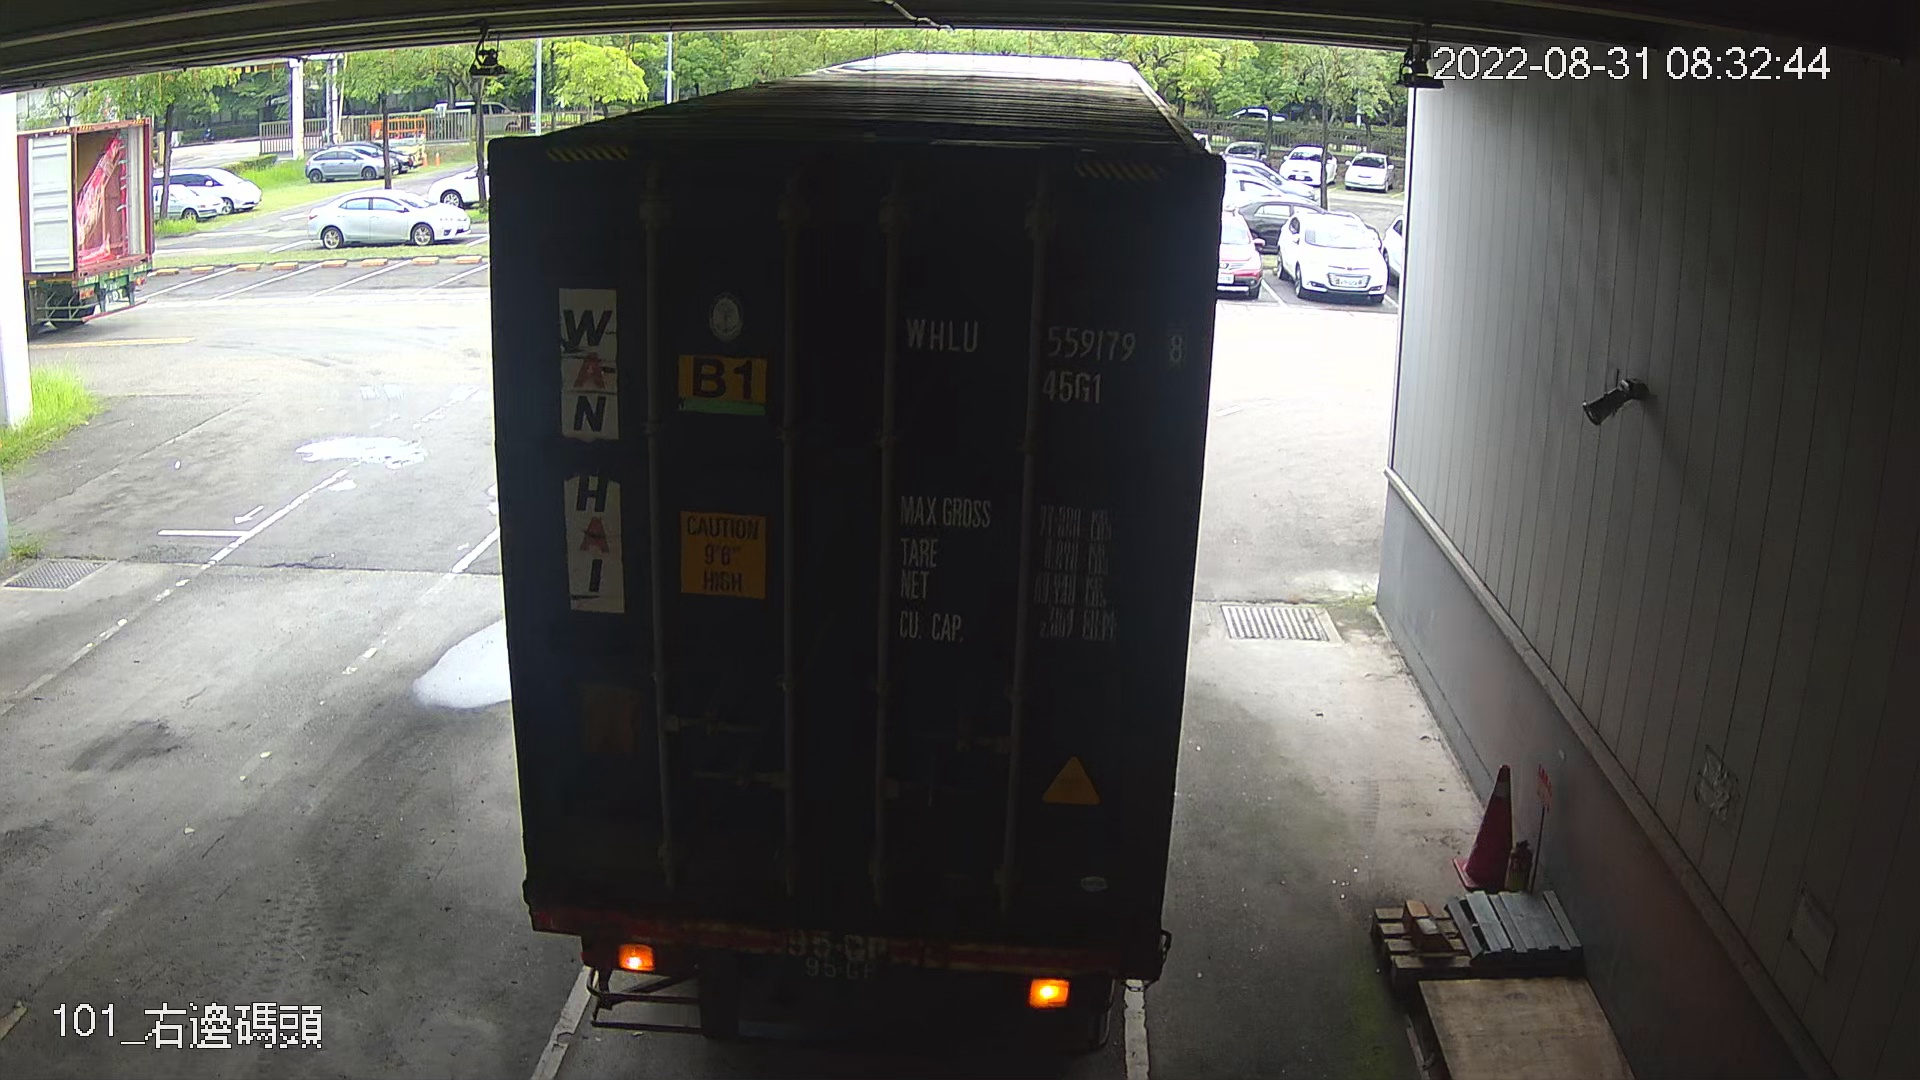container: (891, 297, 1192, 417)
